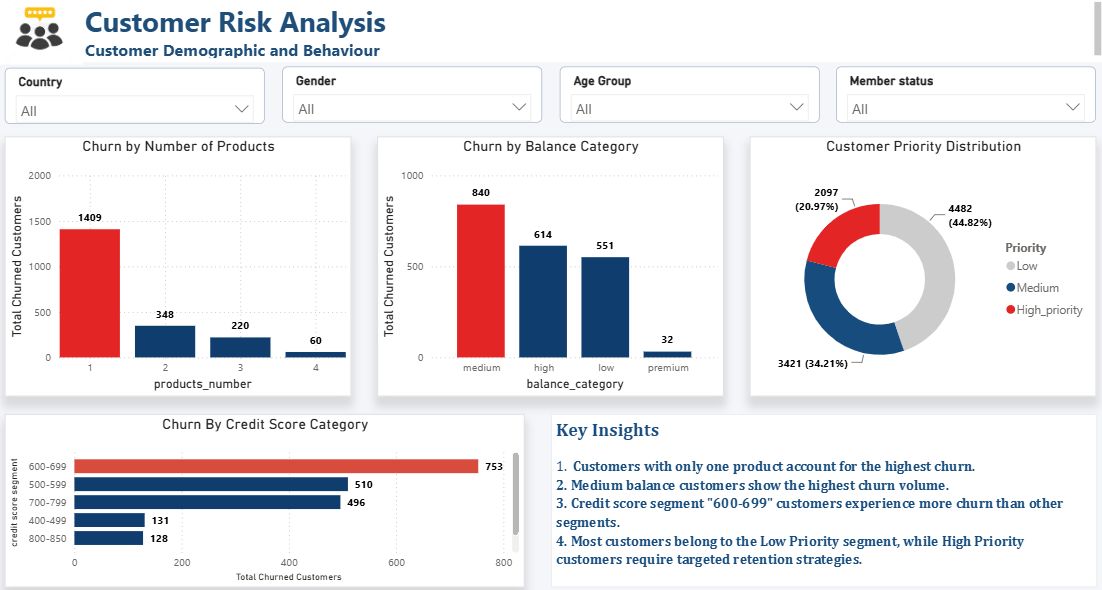

What the dashboard file says about the page in this screenshot:
{"tool":"powerbi","page":{"name":"Customer Risk Analysis","canvas":[1280,720],"ordinal":1},"visuals":[{"type":"slicer","fields":{"Values":["Bank Churn.gender"]},"box":[514.1,84.6,315,70],"z":0},{"type":"slicer","fields":{"Values":["Bank Churn.country"]},"box":[115.4,84.6,315.6,70],"z":1000},{"type":"slicer","fields":{"Values":["Bank Churn.age_group"]},"box":[921.8,84.6,315.3,70],"z":2000},{"type":"textbox","box":[64.4,8.9,1215.6,56.7],"z":3000},{"type":"barChart","title":"Churn By Credit Score Category","fields":{"Y":["Bank Churn.Total Churned Customers"],"Category":["Bank Churn.credit_score_category"]},"box":[66.7,511.5,728.9,200],"z":4000},{"type":"columnChart","title":"Churn by Number of Products","fields":{"Y":["Bank Churn.Total Churned Customers"],"Category":["Bank Churn.products_number"]},"box":[63.9,188.9,400,300],"z":5000},{"type":"columnChart","title":"Customer Priority Distribution","fields":{"Y":["Bank Churn.Total Customers"],"Category":["Bank Churn.priority"]},"box":[880,188.9,400,300],"z":6000},{"type":"clusteredColumnChart","title":"Churn by Balance Category","fields":{"Y":["Bank Churn.Total Churned Customers"],"Category":["Bank Churn.balance_category"]},"box":[471.1,188.9,400,300],"z":7000},{"type":"textbox","box":[812.8,511.5,466.7,200],"z":8000}]}

Visuals, with their boxes on the page's 1280x720 design canvas (x1, y1, x2, y2). These are canvas units, not pixel positions in the 1102x590 screenshot, which may show the page scaled, cropped or inside an application window:
slicer - Bank Churn.gender: crop(514, 85, 829, 155)
slicer - Bank Churn.country: crop(115, 85, 431, 155)
slicer - Bank Churn.age_group: crop(922, 85, 1237, 155)
textbox: crop(64, 9, 1280, 66)
"Churn By Credit Score Category" barChart: crop(67, 512, 796, 712)
"Churn by Number of Products" columnChart: crop(64, 189, 464, 489)
"Customer Priority Distribution" columnChart: crop(880, 189, 1280, 489)
"Churn by Balance Category" clusteredColumnChart: crop(471, 189, 871, 489)
textbox: crop(813, 512, 1280, 712)
